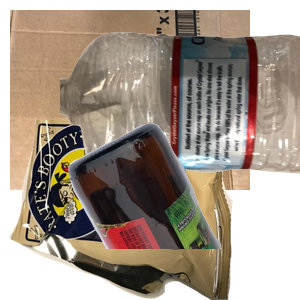cardboard: (10, 10, 250, 190)
glass: (66, 120, 300, 300)
plastic: (60, 30, 300, 196)
trash: (10, 120, 235, 300)
